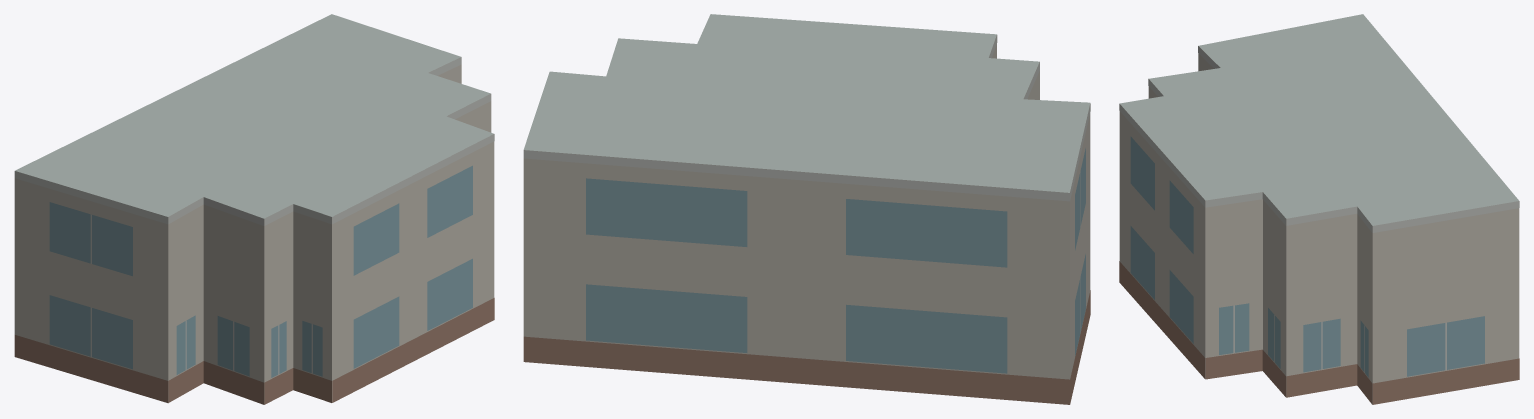
The model's file is survey-upis-32711662.glb.
3 renders of one model, left to right at view 1: azimuth 30°, elevation 25°; view 2: azimuth 150°, elevation 25°; view 3: azimuth 270°, elevation 25°, orthographic. The views are drawn at different scales.
Visible parts, largest first — view 1: survey-upis-32711662.tmp; view 2: survey-upis-32711662.tmp; view 3: survey-upis-32711662.tmp.
Boxes of the visible parts, x1,y1,x2,y2 form: survey-upis-32711662.tmp: (14, 14, 494, 404); survey-upis-32711662.tmp: (523, 14, 1090, 404); survey-upis-32711662.tmp: (1119, 14, 1519, 404).
Size of the model in its own units: 15.51 by 6.1 by 12.37.
